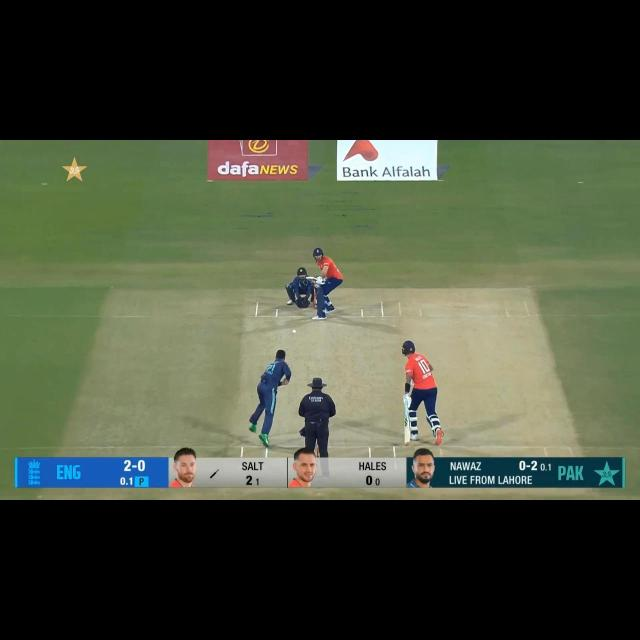bat: (403, 415, 412, 447), (305, 275, 318, 282)
toe: (403, 436, 412, 446), (306, 276, 309, 280)
